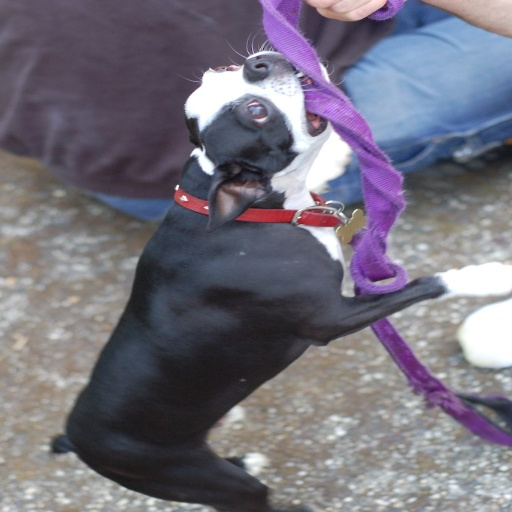hand: (297, 0, 390, 23)
